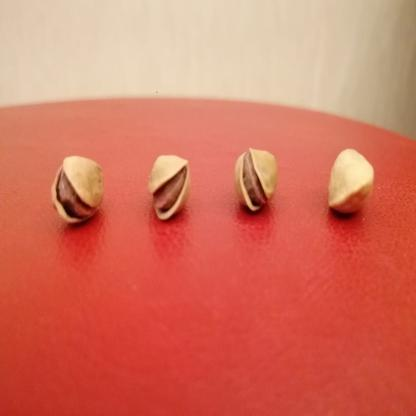pistachio: (43, 149, 115, 232), (324, 145, 379, 218), (144, 150, 196, 225), (232, 146, 288, 215)
